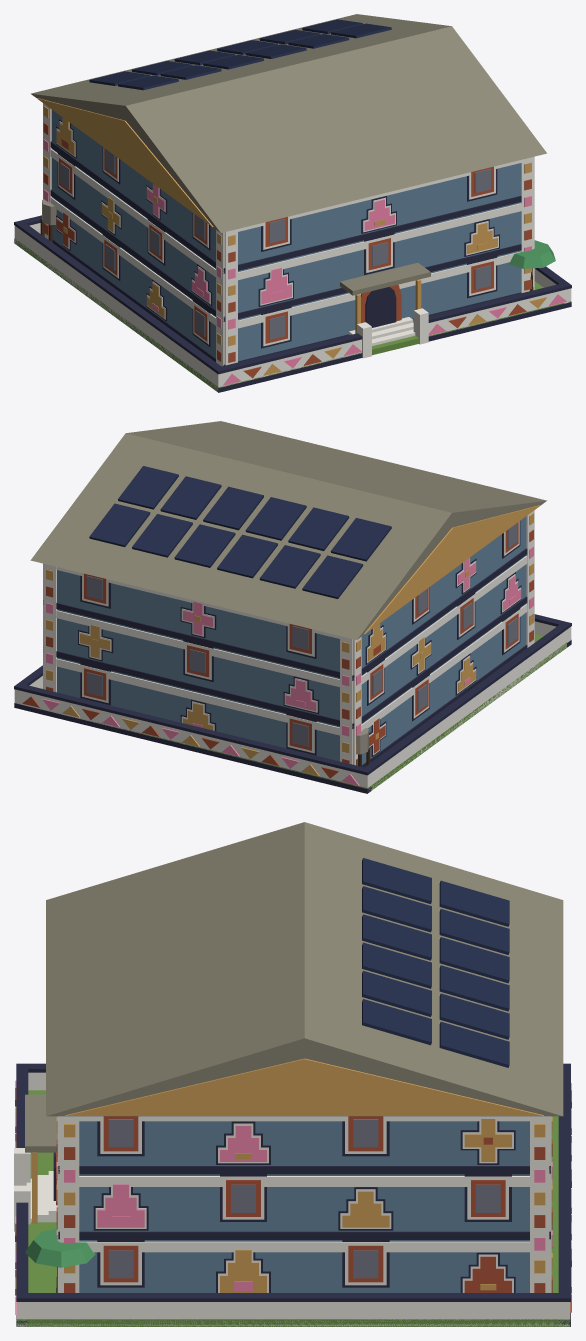
The model's file is house-2x2-3f-ndebele-a-solar.glb.
3 renders of one model, top to bottom at view 1: azimuth 30°, elevation 25°; view 2: azimuth 150°, elevation 25°; view 3: azimuth 270°, elevation 25°, orthographic. The views are drawn at different scales.
Parts seen in each view (by area): view 1: house-2x2-3f-ndebele-a-solar; view 2: house-2x2-3f-ndebele-a-solar; view 3: house-2x2-3f-ndebele-a-solar.
Boxes of the visible parts, left/top/right/bottom form: house-2x2-3f-ndebele-a-solar: left=14, top=14, right=571, bottom=392; house-2x2-3f-ndebele-a-solar: left=14, top=421, right=571, bottom=793; house-2x2-3f-ndebele-a-solar: left=14, top=822, right=571, bottom=1326.
Size of the model in its own units: 1.99 by 1.11 by 2.01.
1 material, 1 textured.
